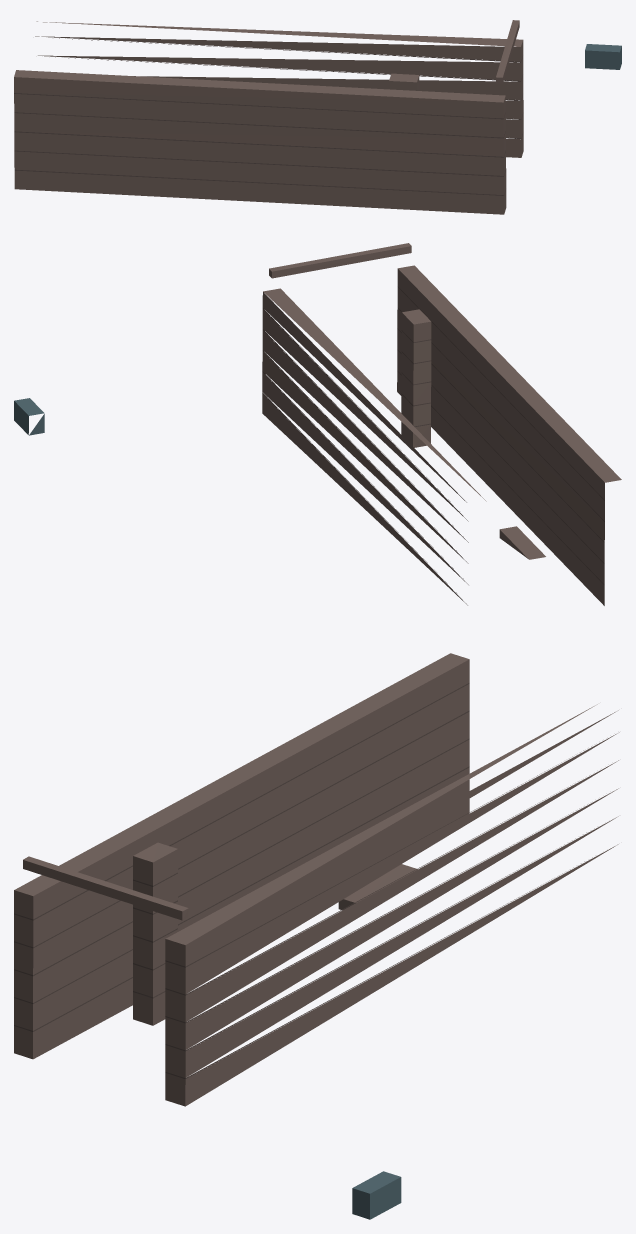
File: terminal-6---133_-16.glb
3 views of the same model, one above another, from view 1: azimuth 30°, elevation 25°; view 2: azimuth 150°, elevation 25°; view 3: azimuth 270°, elevation 25° (orthographic). The views are drawn at different scales.
Parts seen in each view (by area): view 1: measured-industrial; view 2: measured-industrial; view 3: measured-industrial.
Part boxes in pixels (left/top/right/bottom): measured-industrial: left=14, top=20, right=621, bottom=214; measured-industrial: left=14, top=243, right=621, bottom=605; measured-industrial: left=14, top=653, right=619, bottom=1219.
Bounding box in the file's own units: 94.97 × 21.31 × 59.45.
